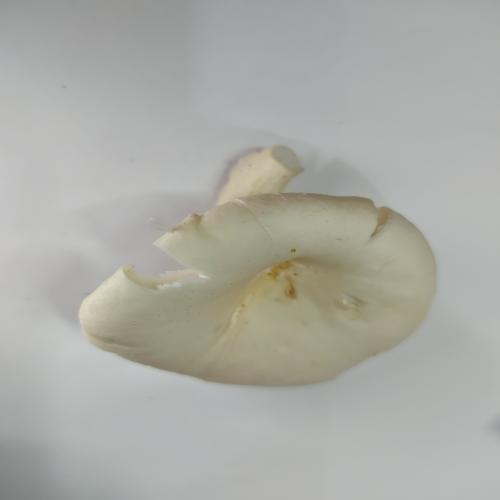Oyster Mushroom: (69, 196, 436, 383)
